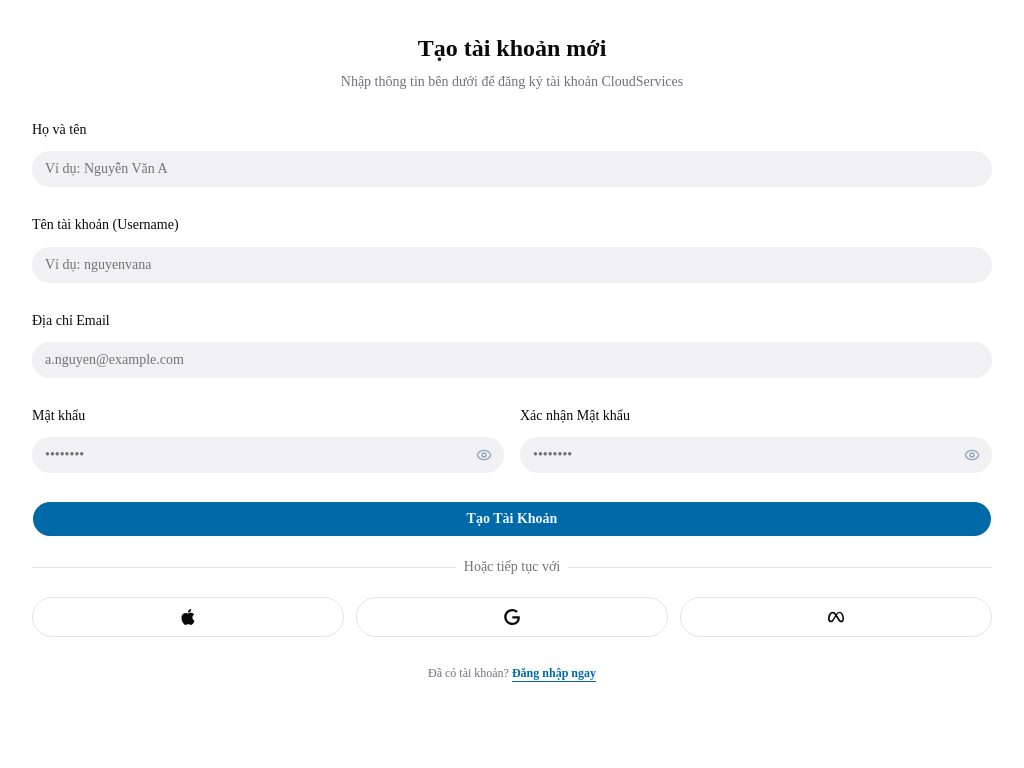
Test case: RegisterForm Component › should display error when confirm password does not match
Step 1. Type "Nguyen Van A" into the field labelled "Họ và tên" → (512, 169), box x1=32 y1=151 x2=992 y2=187
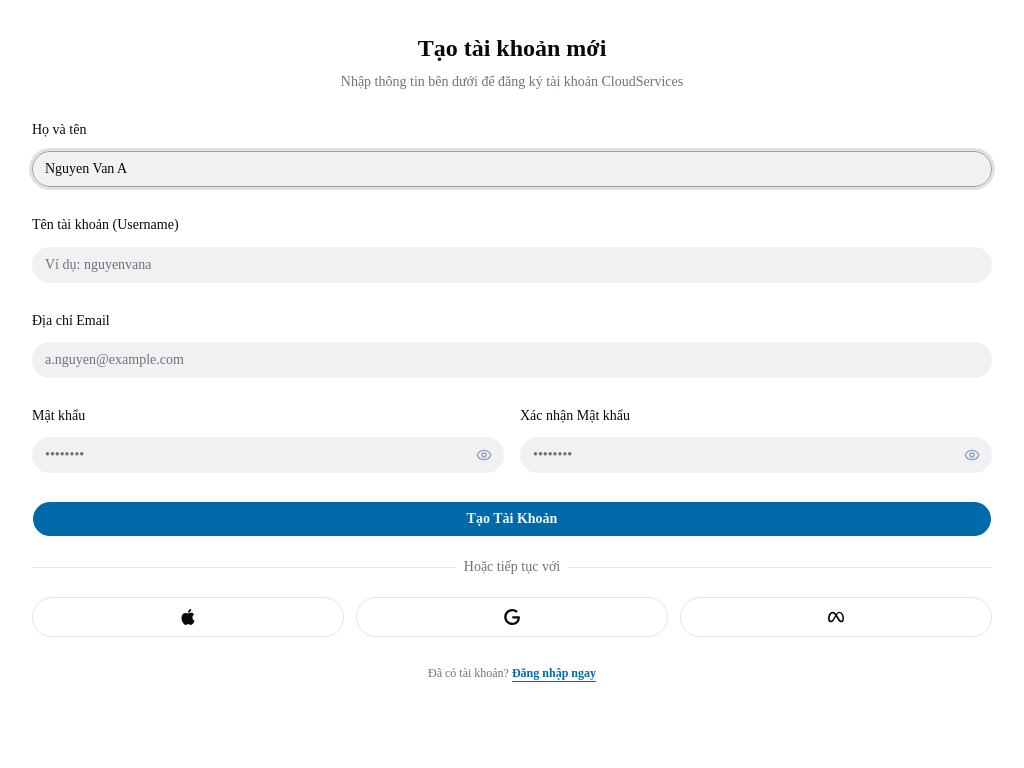
Step 2. Type "nguyenvana" into the field labelled "Tên tài khoản (Username)" → (512, 264), box x1=32 y1=246 x2=992 y2=282
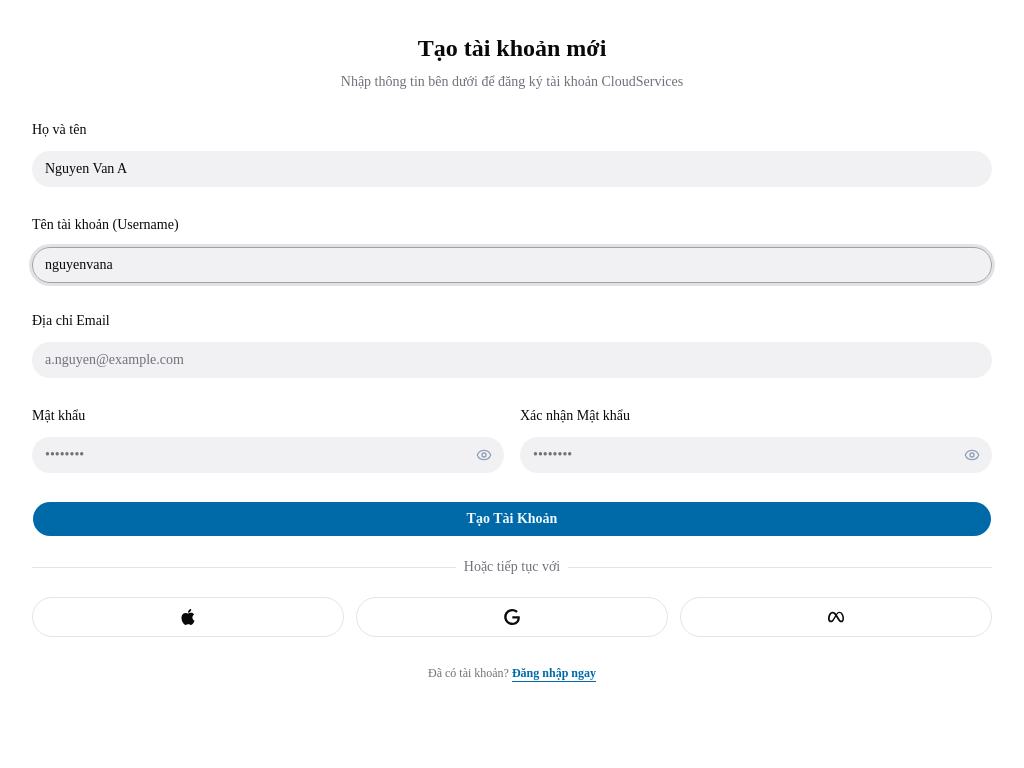
Step 3. Type "a.nguyen@cloudservices.vn" into the field labelled "Địa chỉ Email" → (512, 360), box x1=32 y1=342 x2=992 y2=378
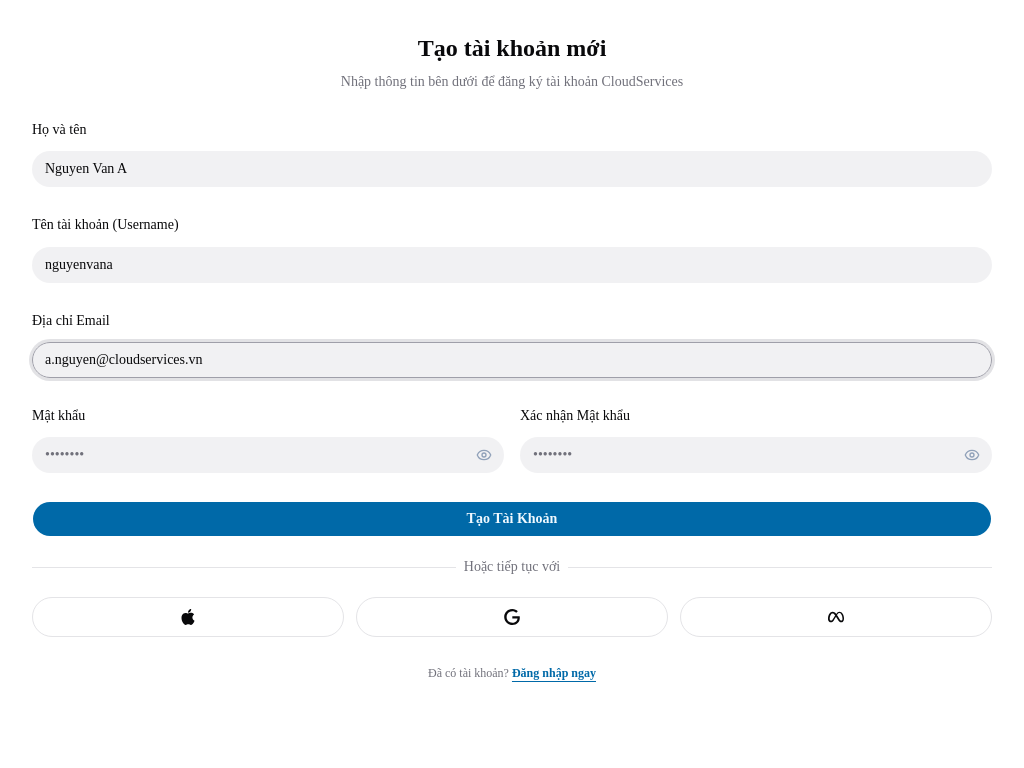
Step 4. Type "password123" into the password field labelled "Mật khẩu" → (268, 455), box x1=32 y1=437 x2=504 y2=473
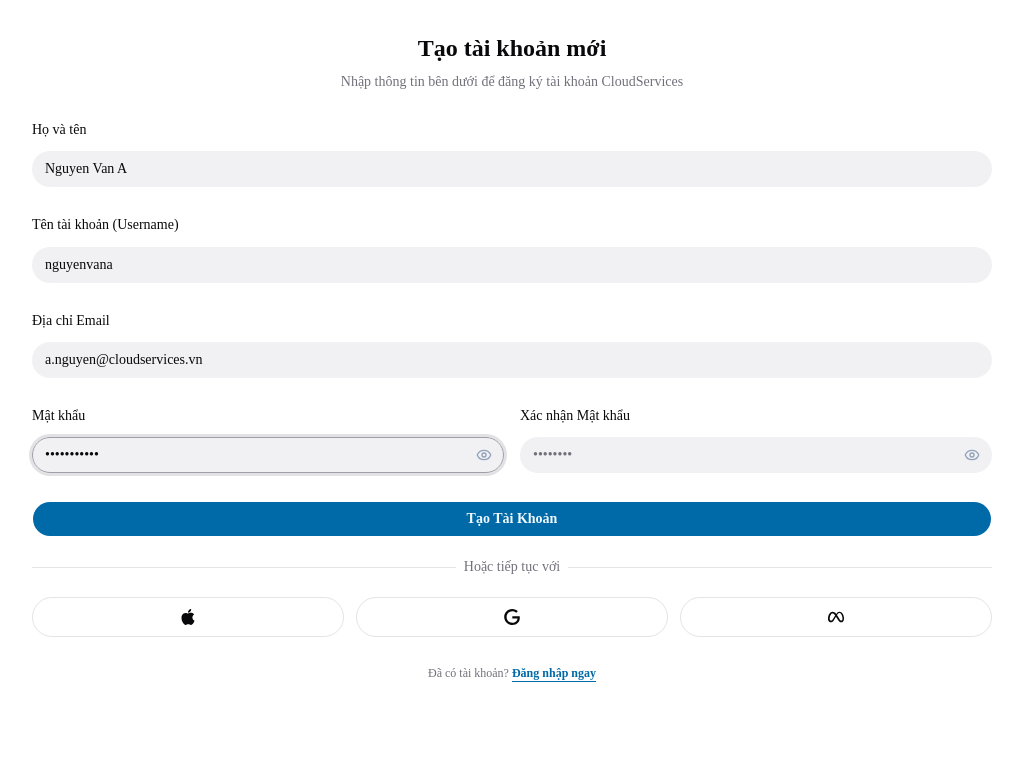
Step 5. Type "passwordMismatch" into the password field labelled "Xác nhận Mật khẩu" → (756, 455), box x1=520 y1=437 x2=992 y2=473
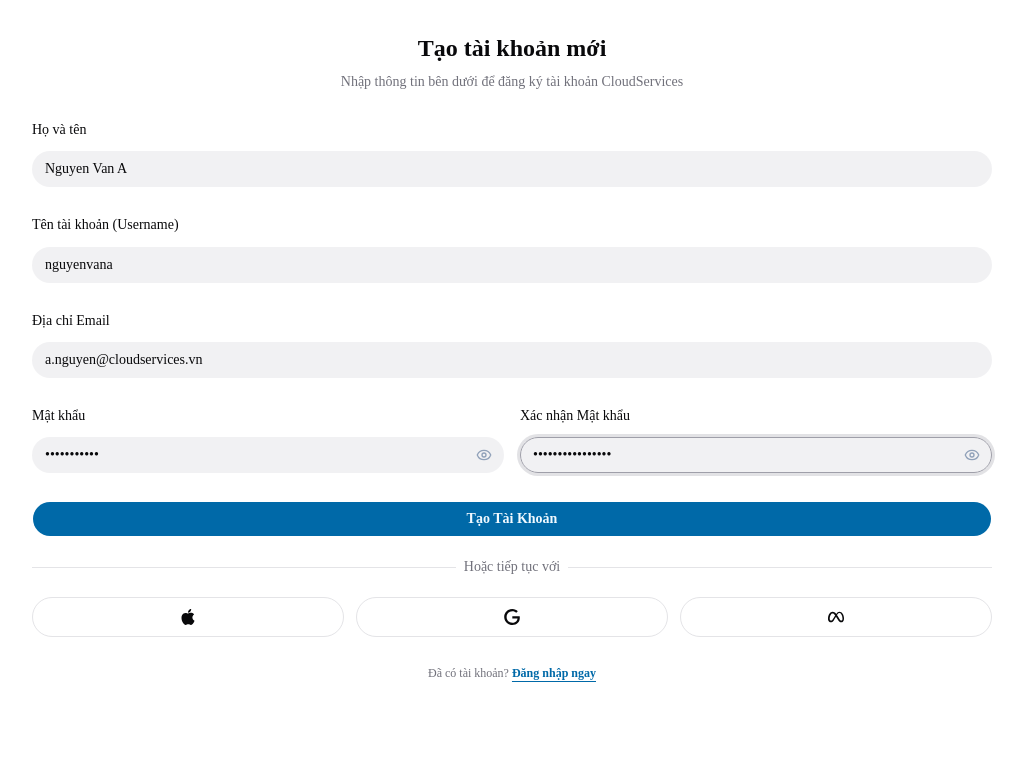
Step 6. Click the button "Tạo Tài Khoản" → (512, 519), box x1=32 y1=501 x2=992 y2=537
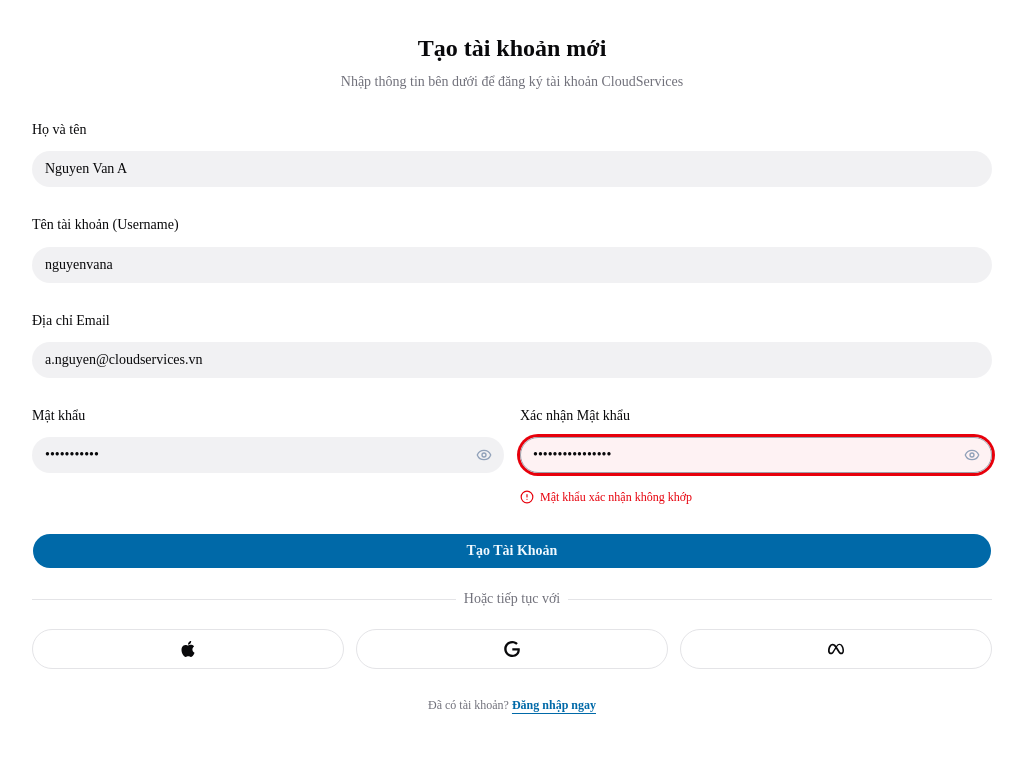
Result: the text "Mật khẩu xác nhận không khớp" is shown at x1=540 y1=489 x2=692 y2=505
